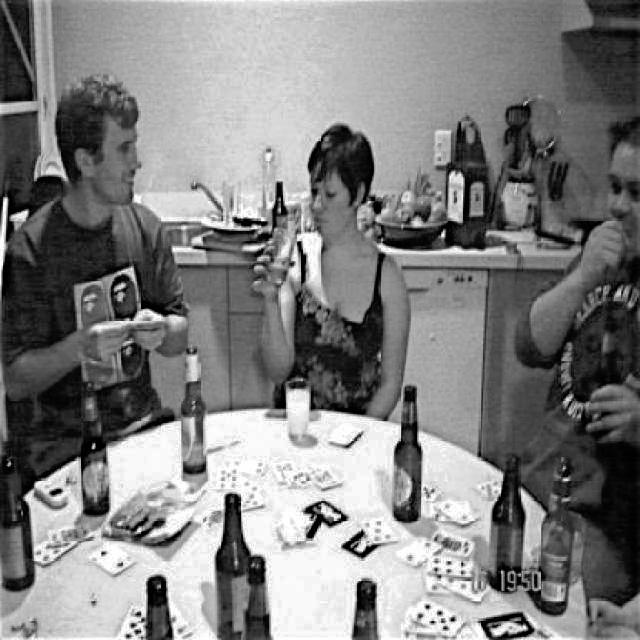Person: (0, 69, 194, 500), (514, 120, 640, 613), (249, 125, 412, 416)
